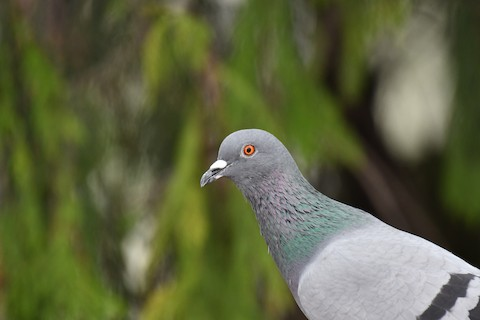pigeon: (194, 126, 469, 313)
